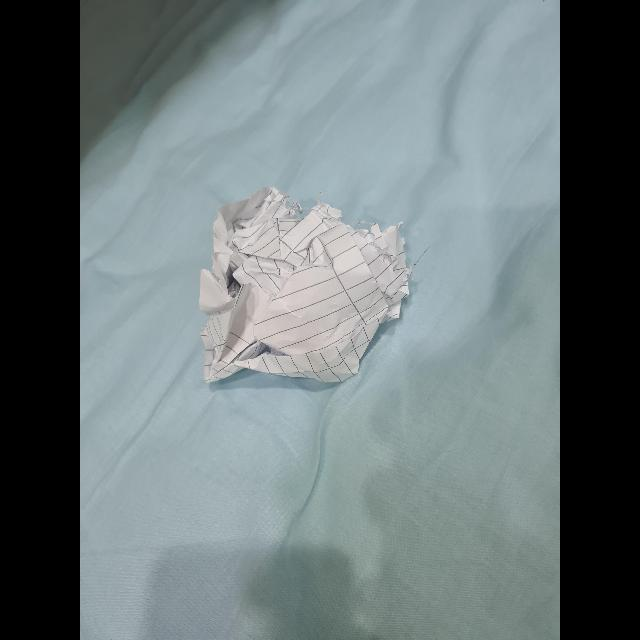scrap_paper: (200, 198, 400, 382)
